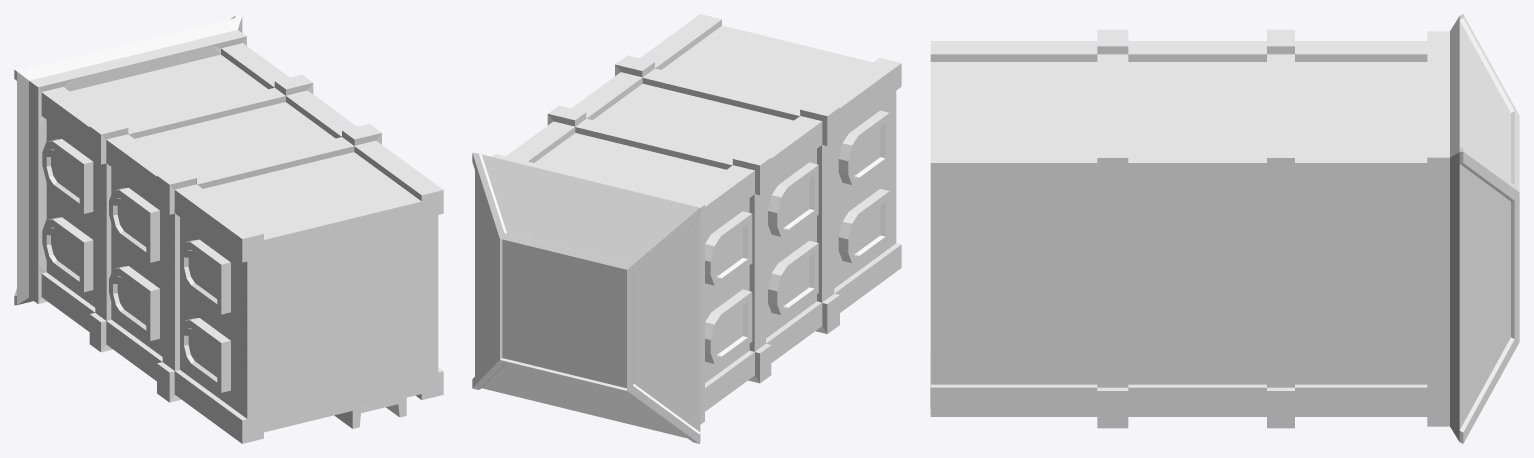
File: venice_building_2.fbx
The picture shows the model from 3 angles, left to right: view 1: azimuth 30°, elevation 25°; view 2: azimuth 150°, elevation 25°; view 3: azimuth 270°, elevation 25°; orthographic projection. The views are drawn at different scales.
Visible parts, largest first — view 1: Cube.242; view 2: Cube.242; view 3: Cube.242.
Boxes of the visible parts, x1,y1,x2,y2 form: Cube.242: (14, 14, 443, 443); Cube.242: (472, 14, 901, 443); Cube.242: (930, 14, 1519, 443).
Size of the model in its own units: 841 by 833 by 1521.
